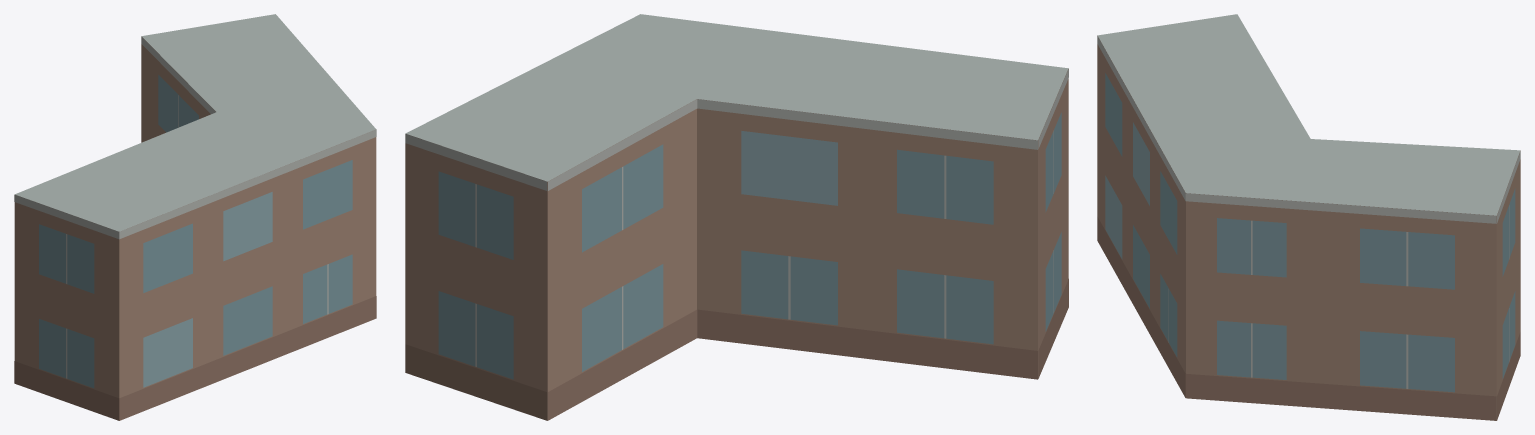
File: survey-upis-32752469.glb
3 renders of one model, left to right at view 1: azimuth 30°, elevation 25°; view 2: azimuth 150°, elevation 25°; view 3: azimuth 270°, elevation 25°, orthographic. The views are drawn at different scales.
Parts seen in each view (by area): view 1: survey-upis-32752469.tmp; view 2: survey-upis-32752469.tmp; view 3: survey-upis-32752469.tmp.
Boxes of the visible parts, bbox=[...] form: survey-upis-32752469.tmp: bbox=[14, 14, 376, 420]; survey-upis-32752469.tmp: bbox=[405, 14, 1068, 420]; survey-upis-32752469.tmp: bbox=[1097, 14, 1520, 420].
Bounding box in the file's own units: 12.87 × 6.1 × 11.41.
